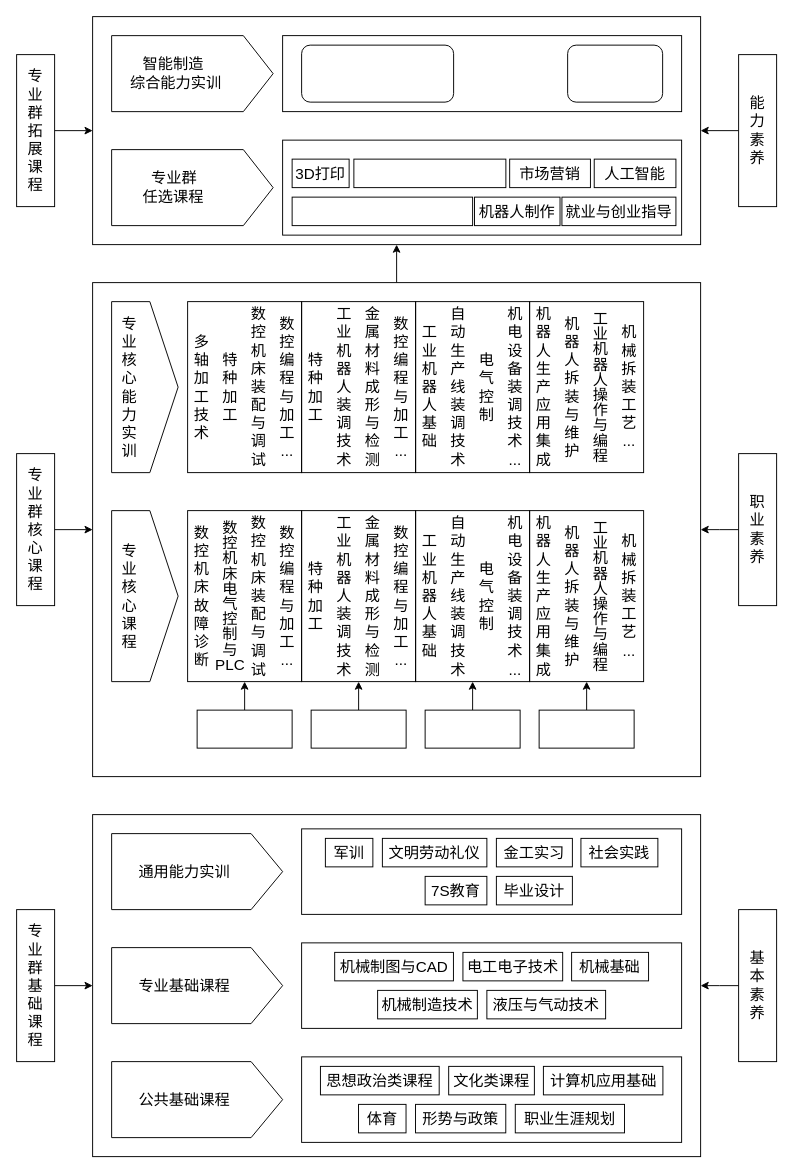
The diagram is 793 pixels wide and 1173 high, and some of its shapes have lost their labels. Here are the shapes that lost their labels. From the top down, the box of each, then its label:
(301, 44, 454, 102): 智能化生产线实训
(567, 44, 663, 102): 顶岗实训
(353, 158, 506, 188): 质量控制与现场管理
(291, 196, 473, 226): 智能装备制造工艺与安装
(196, 709, 292, 748): 数控技术
(310, 709, 406, 748): 机械制造 及自动化
(424, 709, 520, 748): 机电一体化
(538, 709, 634, 748): 工业机器人
